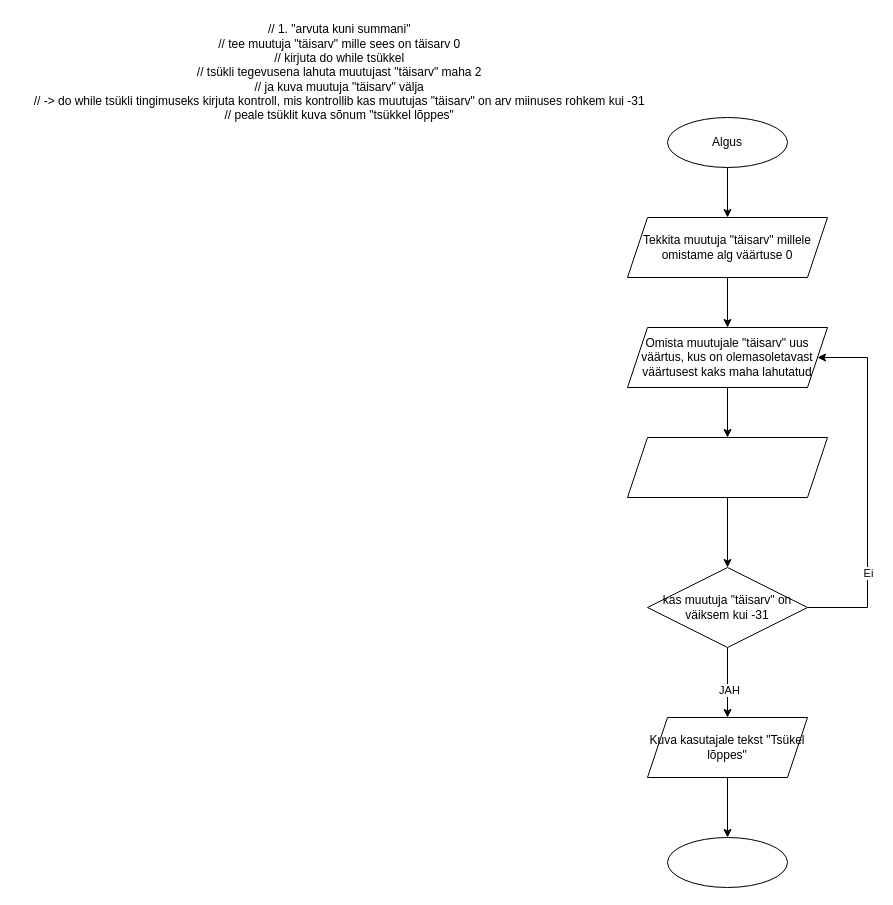
The diagram is 893 pixels wide and 905 high, and some of its shapes have lost their labels. The centre of each missing label's shape, as x and y in pixels:
Kuva kasutajale muutuja "täisarv" välja: point (727, 467)
Lõpp: point (727, 862)
